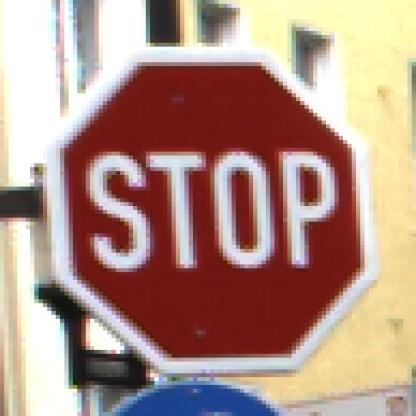stop: (24, 48, 388, 375)
